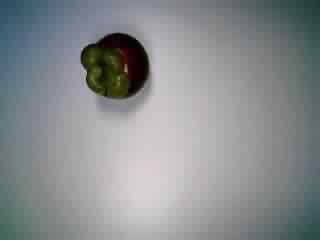mangosteen: (77, 27, 155, 103)
